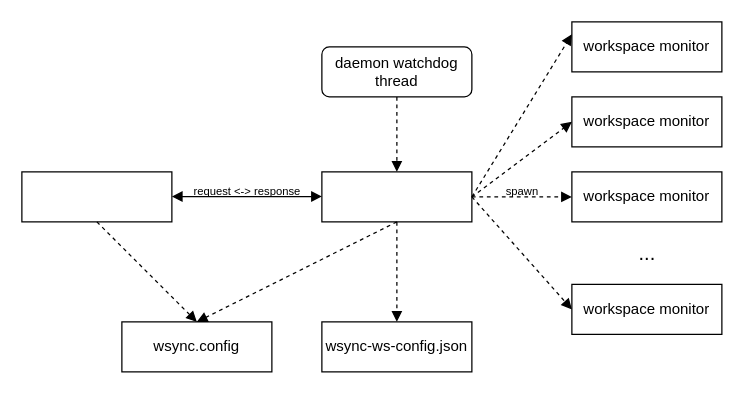
Some shapes in this 744 by 394 pixel diagram are drawn without their labels. The shapes that lost their labels are listed below. From the top down, each one's centre as x and y in pixels, then its label:
At [96,196]: "wsync client".
At [396,196]: "wsync daemon".
